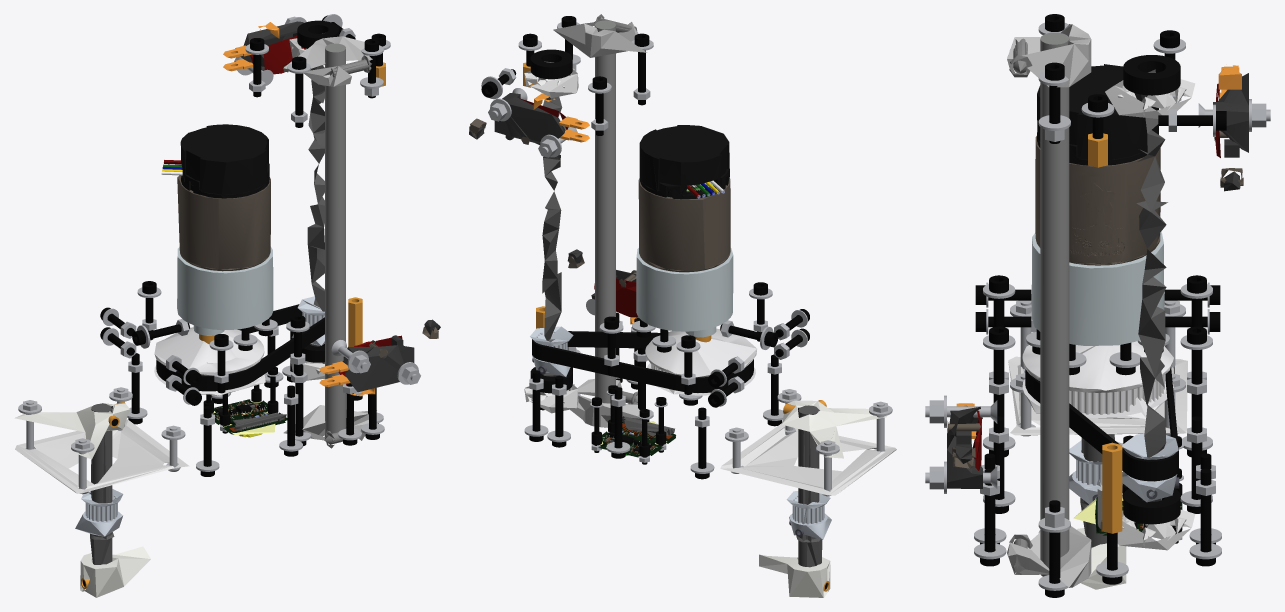
3 renders of one model, left to right at view 1: azimuth 30°, elevation 25°; view 2: azimuth 150°, elevation 25°; view 3: azimuth 270°, elevation 25°, orthographic. The views are drawn at different scales.
Visible parts, largest first — view 1: n1, n29, n8, n13, n22, n12, n0, n2, n5, n27, n30, n9 (+8 smaller); view 2: n29, n1, n13, n0, n22, n8, n12, n2, n28, n5, n27, n9 (+7 smaller); view 3: n29, n1, n8, n13, n22, n2, n0, n27, n9, n12, n30, n7 (+8 smaller).
Boxes of the visible parts, bbox=[...] form: n1: bbox=[18, 14, 420, 494]; n29: bbox=[100, 15, 385, 476]; n8: bbox=[325, 43, 345, 434]; n13: bbox=[177, 175, 270, 271]; n22: bbox=[177, 246, 273, 335]; n12: bbox=[180, 124, 269, 419]; n0: bbox=[15, 38, 324, 493]; n2: bbox=[90, 33, 324, 564]; n5: bbox=[14, 403, 150, 597]; n27: bbox=[154, 327, 265, 395]; n30: bbox=[240, 21, 440, 392]; n9: bbox=[283, 36, 376, 440]; n29: bbox=[481, 16, 809, 479]; n1: bbox=[481, 22, 892, 496]; n13: bbox=[638, 177, 730, 272]; n0: bbox=[524, 68, 896, 495]; n22: bbox=[636, 248, 733, 337]; n8: bbox=[595, 20, 615, 403]; n12: bbox=[634, 125, 729, 452]; n2: bbox=[542, 61, 822, 567]; n28: bbox=[532, 331, 753, 392]; n5: bbox=[759, 400, 886, 597]; n27: bbox=[645, 328, 756, 395]; n9: bbox=[553, 22, 647, 427]; n29: bbox=[975, 14, 1226, 597]; n1: bbox=[925, 22, 1270, 590]; n8: bbox=[1040, 32, 1069, 576]; n13: bbox=[1035, 136, 1160, 265]; n22: bbox=[1031, 232, 1164, 345]; n2: bbox=[1080, 69, 1167, 547]; n0: bbox=[1008, 79, 1195, 550]; n27: bbox=[1022, 341, 1173, 418]; n9: bbox=[1007, 24, 1091, 587]; n12: bbox=[1037, 64, 1158, 165]; n30: bbox=[947, 73, 1248, 488]; n7: bbox=[1123, 55, 1180, 524].
Bounding box in the file's own units: 0.1543 × 0.096 × 0.2113.
